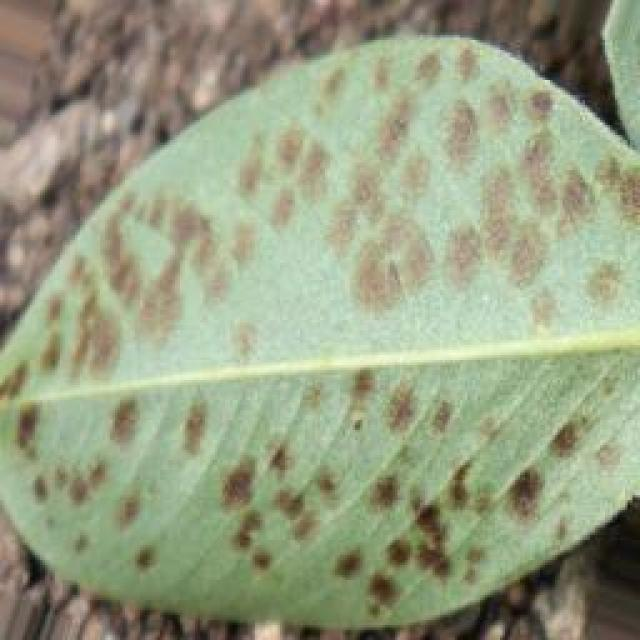Whitefly: (0, 35, 612, 590)
